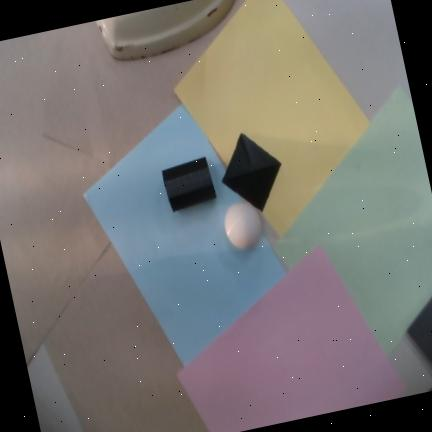Esfera: (223, 202, 262, 250)
Piramide: (222, 133, 282, 213)
Prisma_hexagonal: (162, 156, 217, 212)
